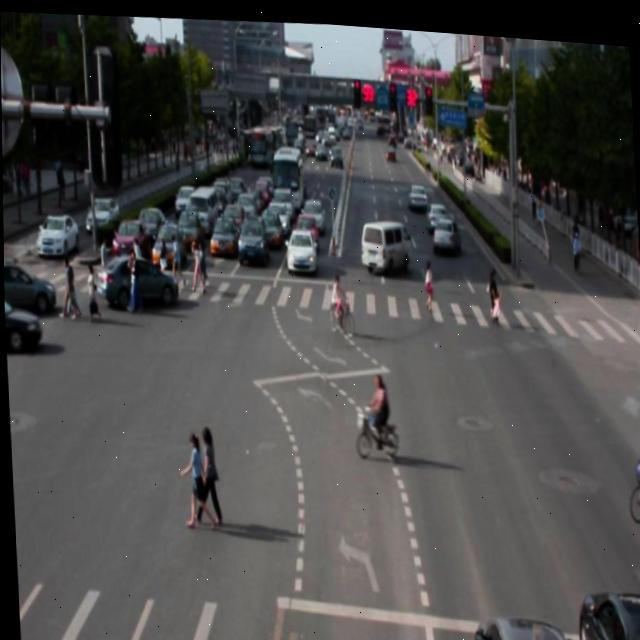car: (95, 247, 178, 310), (573, 574, 640, 640), (465, 604, 580, 640)
